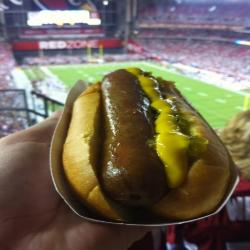hotdog: (44, 57, 239, 227)
